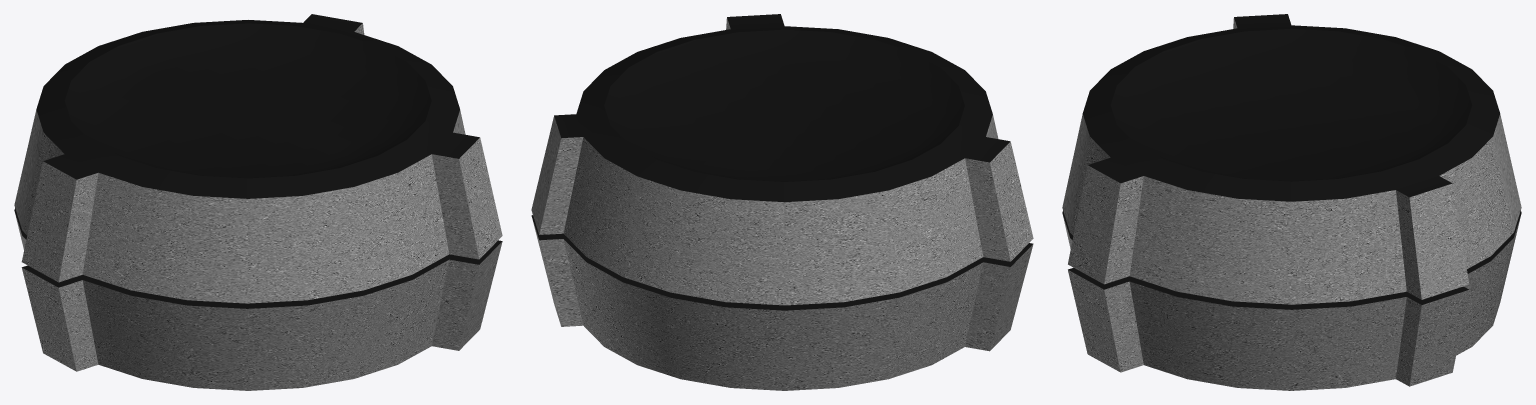
The model's file is FBX_ModuleSmallest.fbx.
3 renders of one model, left to right at view 1: azimuth 30°, elevation 25°; view 2: azimuth 150°, elevation 25°; view 3: azimuth 270°, elevation 25°, orthographic.
Visible parts, largest first — view 1: Module Smallest Export; view 2: Module Smallest Export; view 3: Module Smallest Export.
Boxes of the visible parts, left/top/right/bottom form: Module Smallest Export: left=14, top=14, right=502, bottom=390; Module Smallest Export: left=531, top=14, right=1033, bottom=390; Module Smallest Export: left=1062, top=14, right=1521, bottom=390.
Size of the model in its own units: 1.4 by 1.32 by 0.6531.
